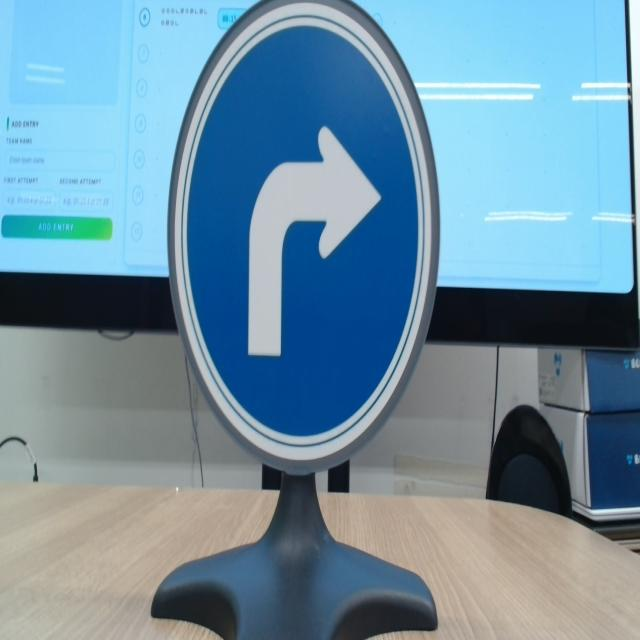right_dierection: (174, 1, 440, 501)
